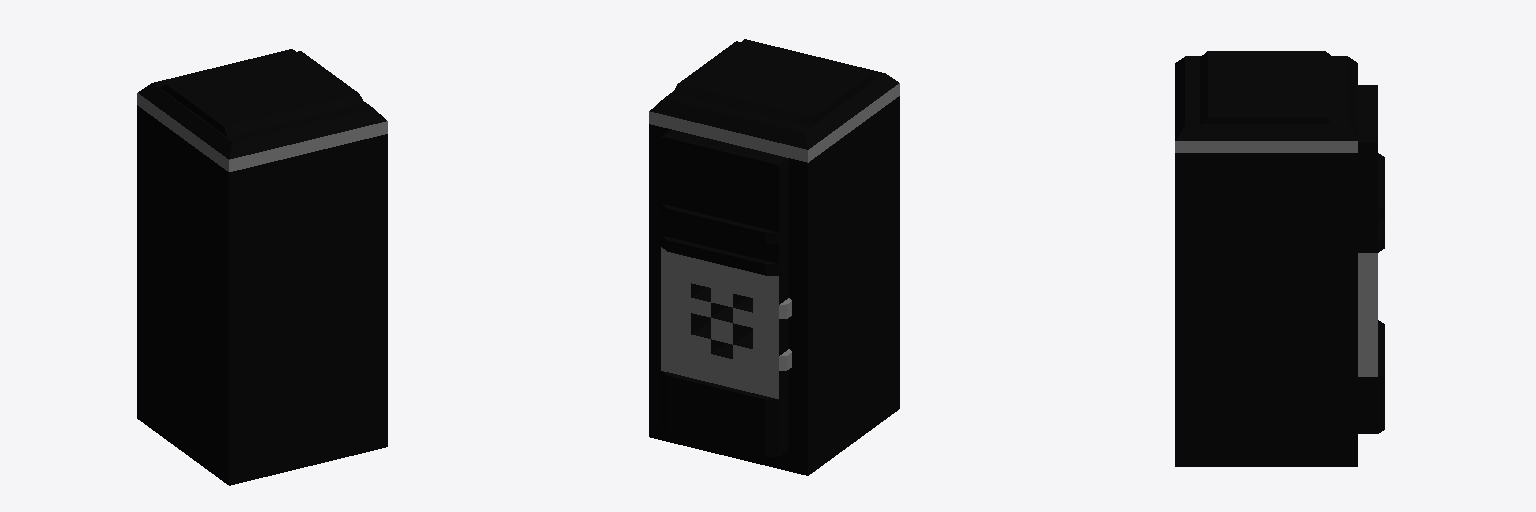
The model's file is furnace.obj.
The picture shows the model from 3 angles: view 1: azimuth 30°, elevation 25°; view 2: azimuth 150°, elevation 25°; view 3: azimuth 270°, elevation 25°; orthographic projection.
Parts seen in each view (by area): view 1: pCube1; view 2: pCube1; view 3: pCube1.
Part boxes in pixels (bbox=[...]): pCube1: bbox=[137, 49, 387, 485]; pCube1: bbox=[649, 39, 899, 475]; pCube1: bbox=[1175, 51, 1384, 466].
Size of the model in its own units: 2.44 by 5.06 by 2.8.